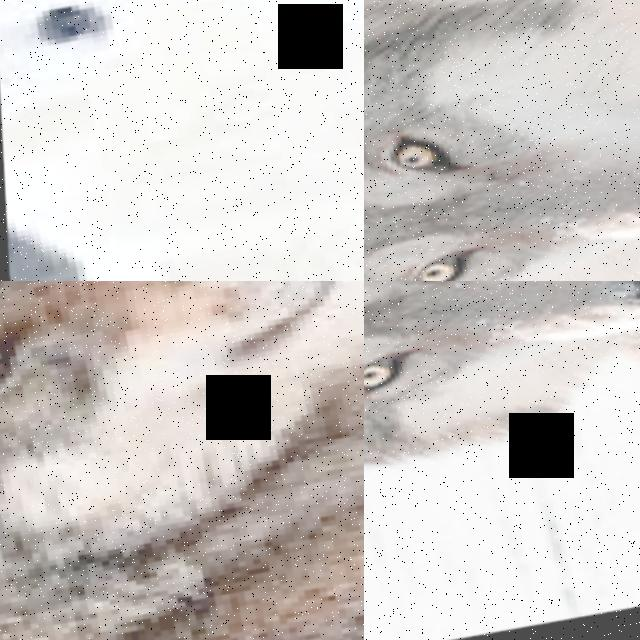wolf: (0, 281, 364, 640), (0, 0, 364, 281), (364, 0, 640, 281), (364, 281, 640, 555)
